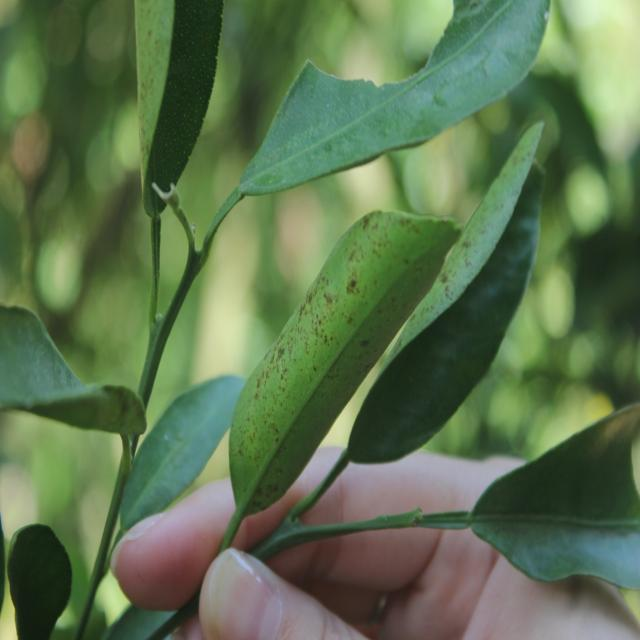melanose: (212, 196, 454, 527), (336, 123, 560, 460), (127, 0, 213, 227)
